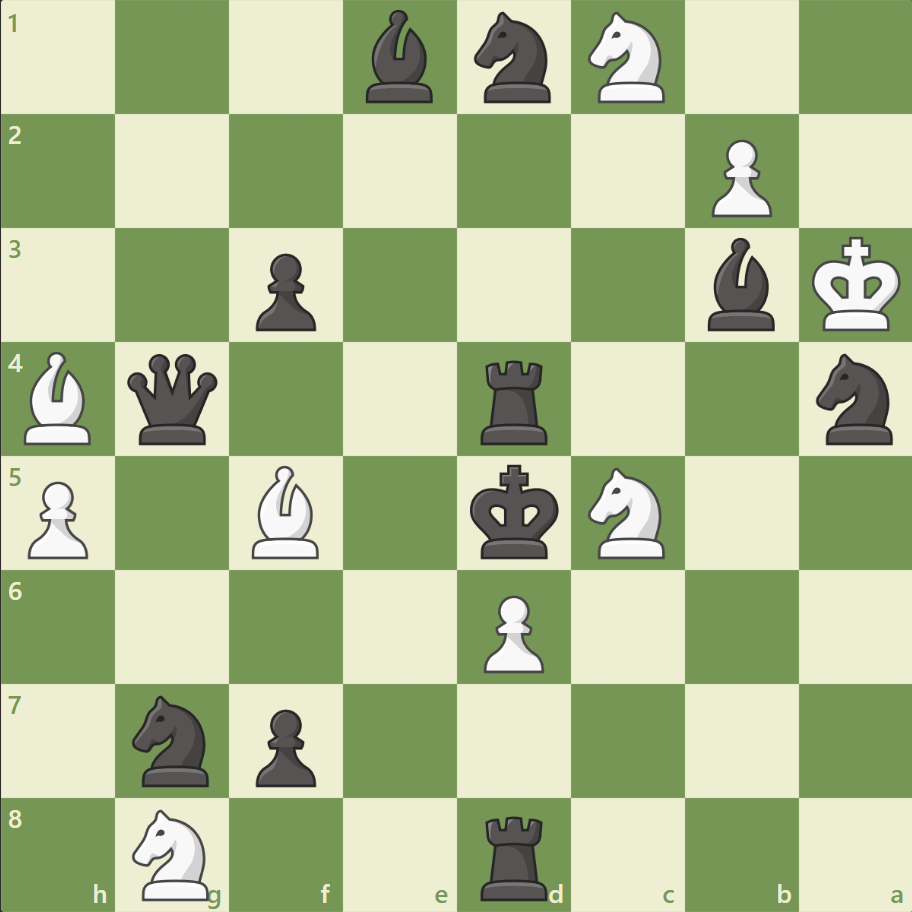B: (244, 460, 328, 563), (17, 347, 101, 449)
K: (806, 231, 906, 339)
N: (124, 802, 222, 904), (579, 461, 676, 564), (579, 7, 676, 110)
P: (474, 586, 549, 677), (20, 473, 95, 564), (701, 132, 776, 223)
b: (698, 233, 782, 336), (358, 6, 442, 109)
k: (465, 458, 565, 566)
n: (124, 688, 222, 791), (465, 7, 562, 110), (806, 348, 903, 450)
p: (247, 700, 322, 791), (247, 246, 322, 337)
q: (124, 349, 223, 449)
r: (473, 806, 556, 904), (473, 352, 556, 449)
